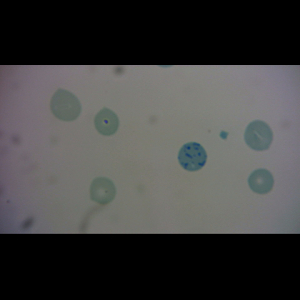aggregate reticulocyte: (176, 141, 208, 172)
erythrocyte: (49, 88, 82, 122), (243, 119, 274, 152), (246, 168, 275, 195), (94, 106, 119, 136)
punctate reticulocyte: (89, 176, 118, 206)
